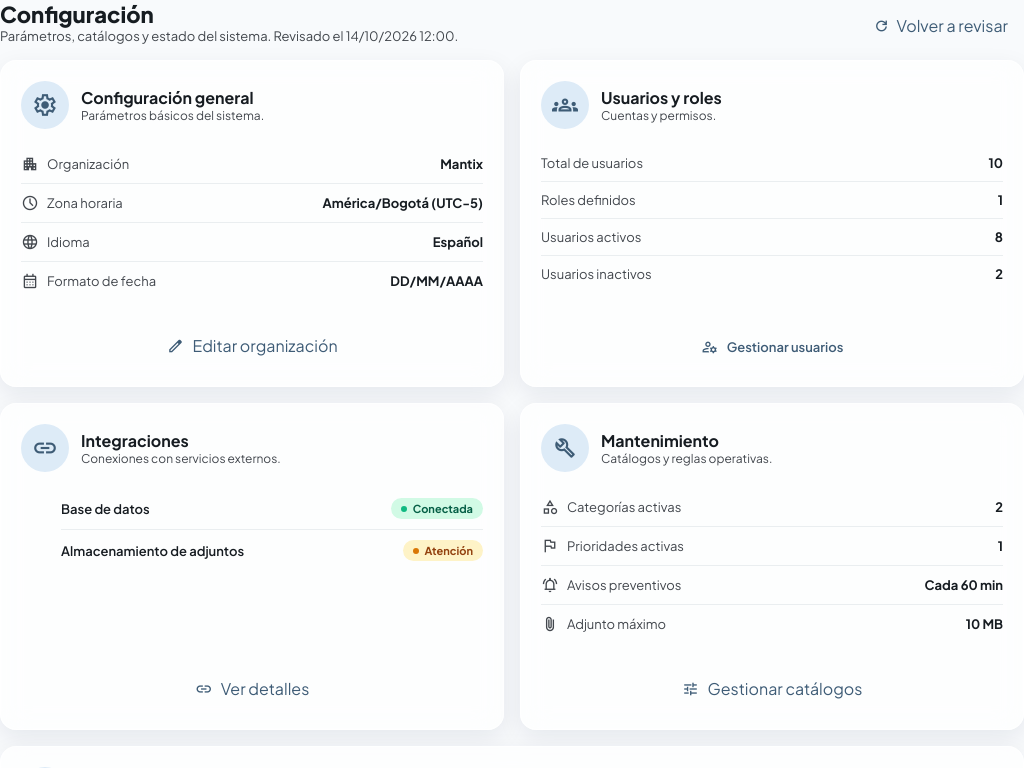
Test: SettingsComponent › screen › never shows secrets in the read-only parameters
Click the button "Ver detalles" at [252, 688], box [21,668,483,709]
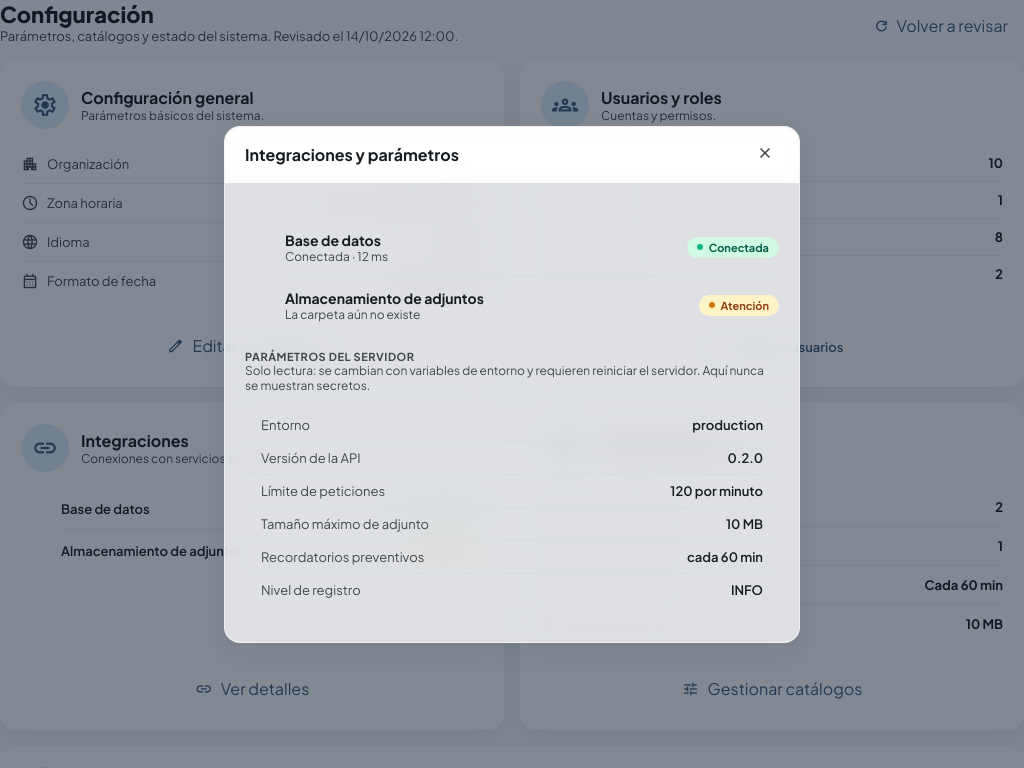
Expected: the text "10 MB" is shown, [966,616,1003,632]
Expected: the text "120 por minuto" is shown, [670,482,763,498]
Expected: the text "La carpeta aún no existe" is shown, [285,306,420,322]
